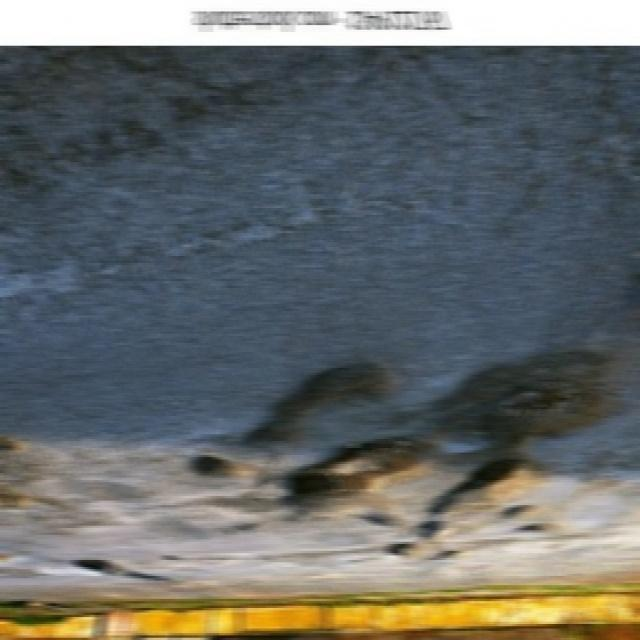Pothole: (424, 342, 636, 442), (246, 349, 404, 447), (282, 433, 430, 516), (429, 454, 544, 528), (370, 516, 460, 574), (68, 547, 161, 585), (190, 454, 270, 489), (504, 498, 561, 543)
